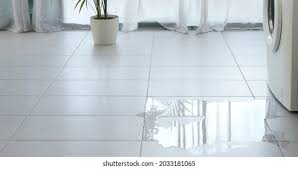Wet-floor: (135, 87, 283, 153)
